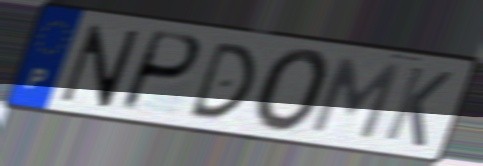D: (185, 39, 259, 121)
K: (380, 63, 457, 150)
M: (305, 55, 405, 144)
N: (56, 21, 145, 110)
O: (251, 46, 335, 137)
P: (115, 28, 206, 116)
